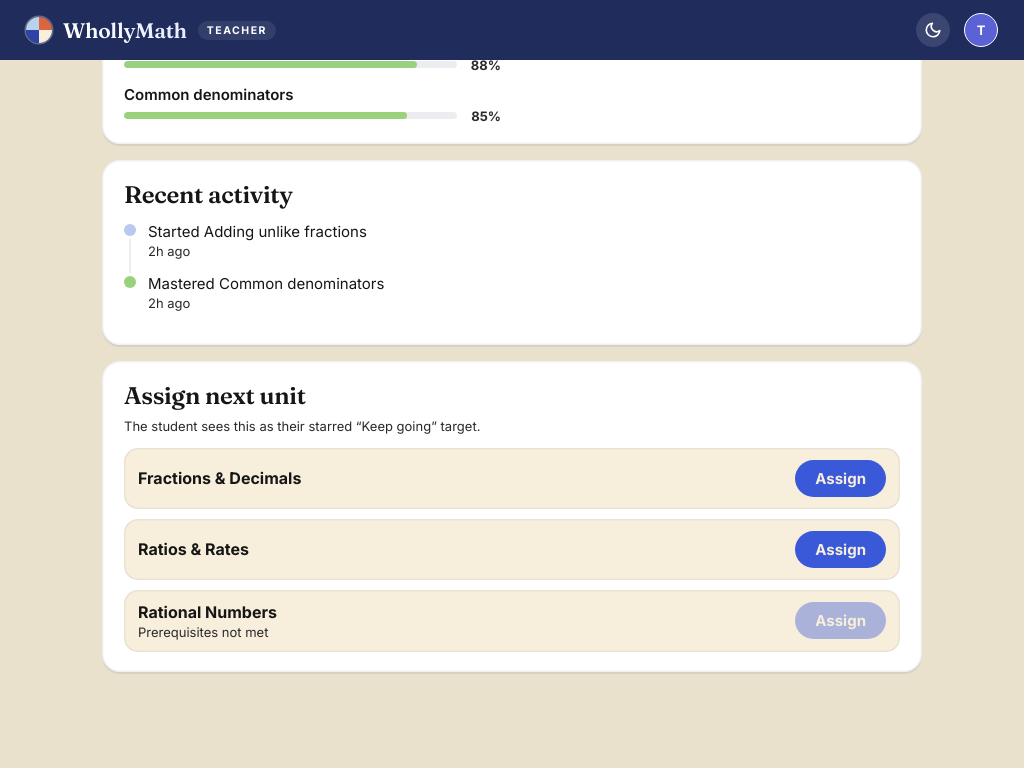
Scenario: TeacherStudentView › assigning a unit reflects immediately as Assigned
(page scrolled)
Click the 1st button "Assign".
click(841, 478)  # box [795,460,886,497]
(page scrolled)
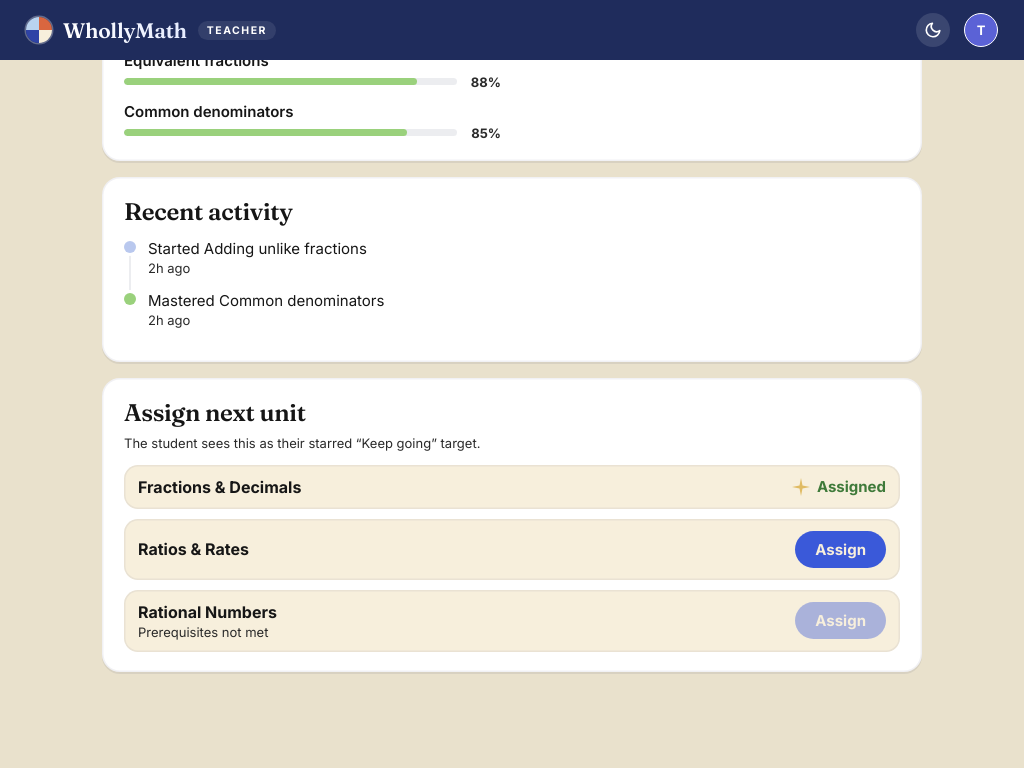
Expected: the text "Assigned" is shown, [792,477,886,496]
